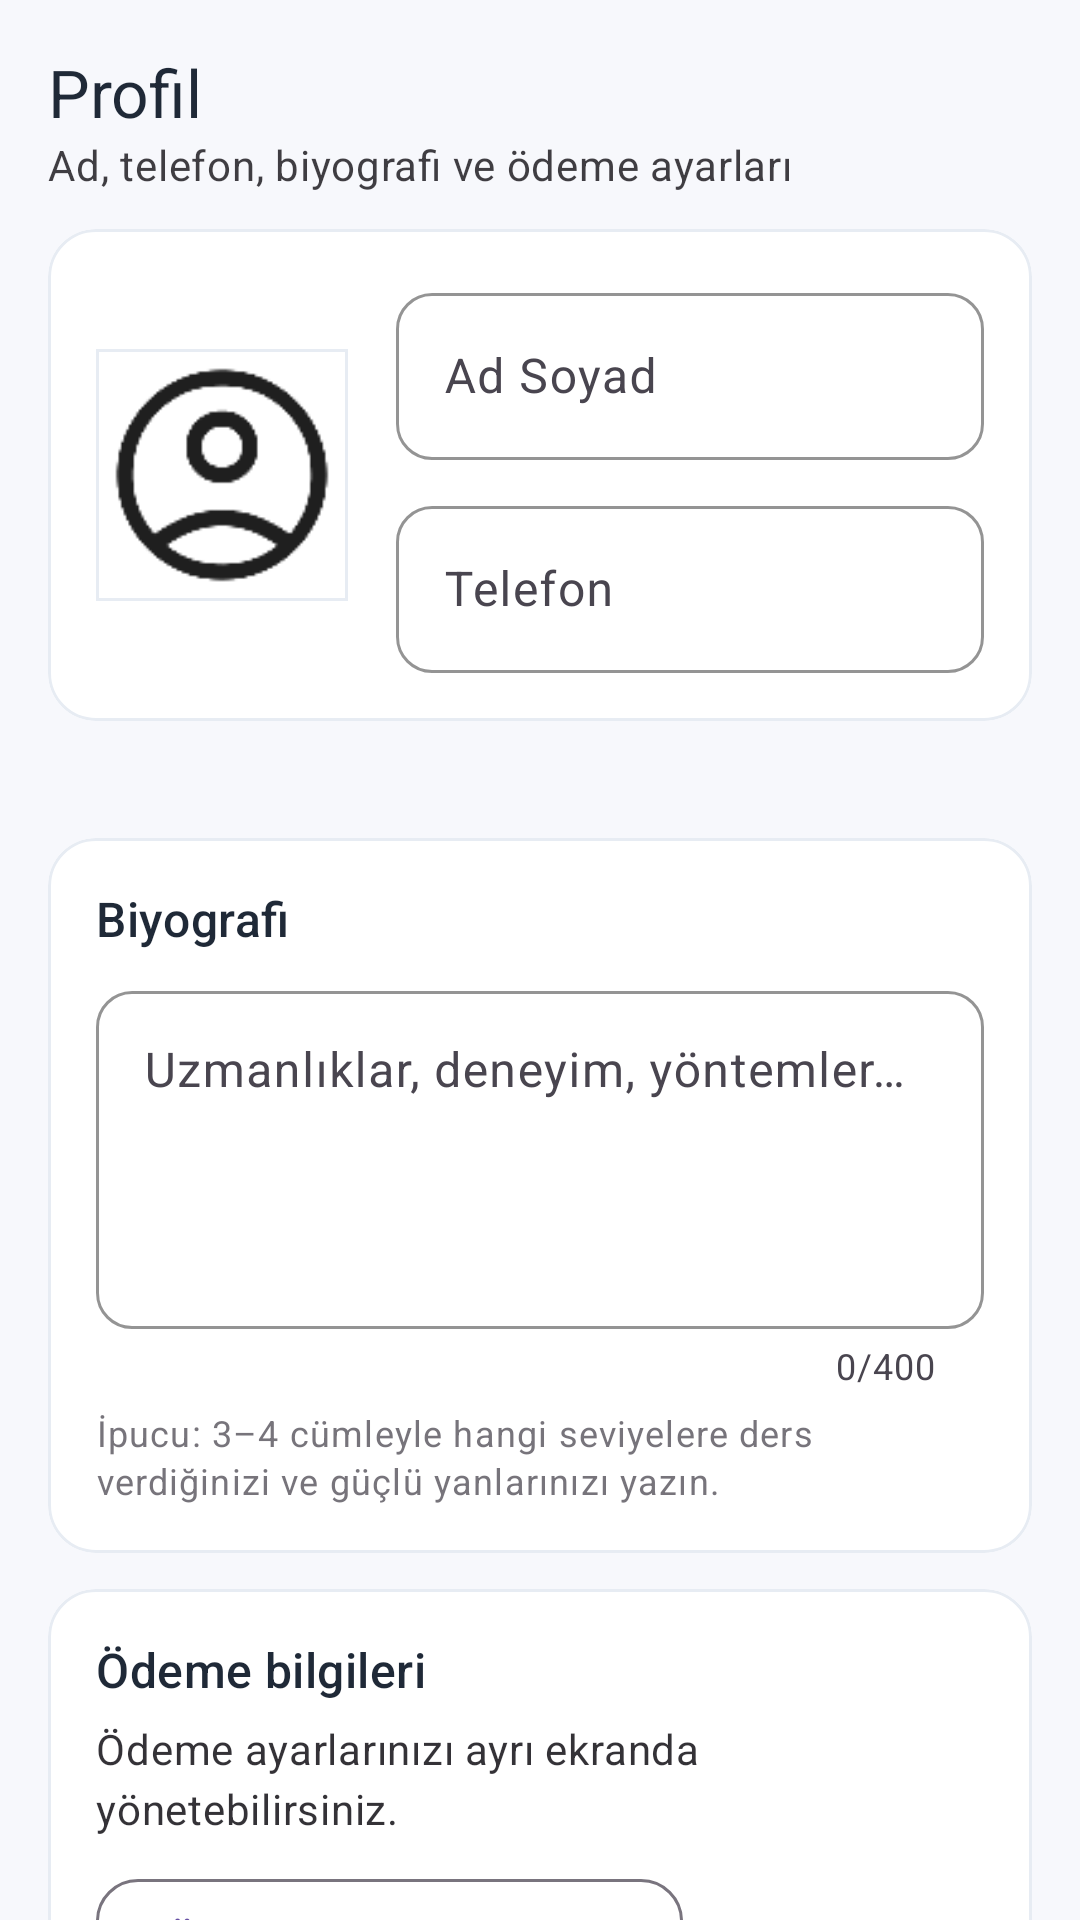

Icons on this 1080w x 1920h Android screen, each with the point to tap as (x=x, y=y):
photo: (x=222, y=475)
